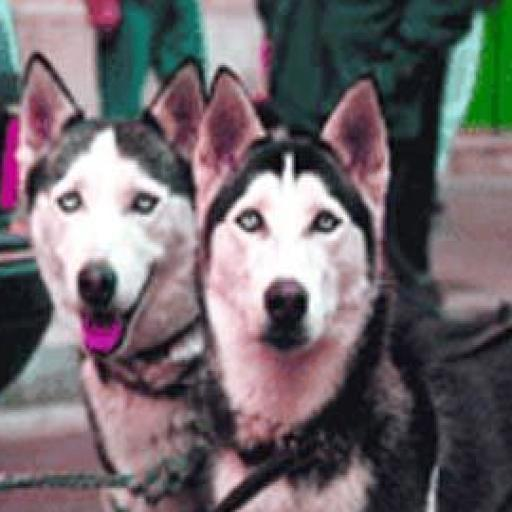dog_face: (202, 61, 384, 364), (20, 54, 196, 360)
